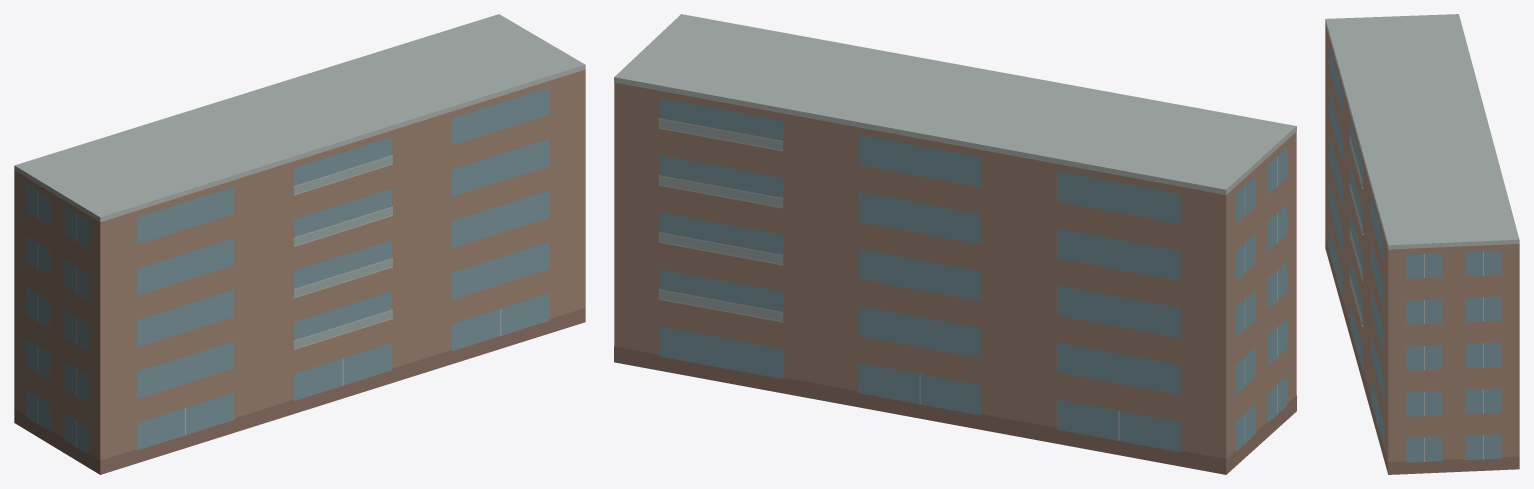
The model's file is survey-upis-32992079.glb.
3 renders of one model, left to right at view 1: azimuth 30°, elevation 25°; view 2: azimuth 150°, elevation 25°; view 3: azimuth 270°, elevation 25°, orthographic. The views are drawn at different scales.
Visible parts, largest first — view 1: survey-upis-32992079.tmp; view 2: survey-upis-32992079.tmp; view 3: survey-upis-32992079.tmp.
Boxes of the visible parts, x1,y1,x2,y2 form: survey-upis-32992079.tmp: [14, 14, 585, 474]; survey-upis-32992079.tmp: [614, 14, 1296, 474]; survey-upis-32992079.tmp: [1325, 14, 1519, 474].
Size of the model in its own units: 28.43 by 13.15 by 10.09.
